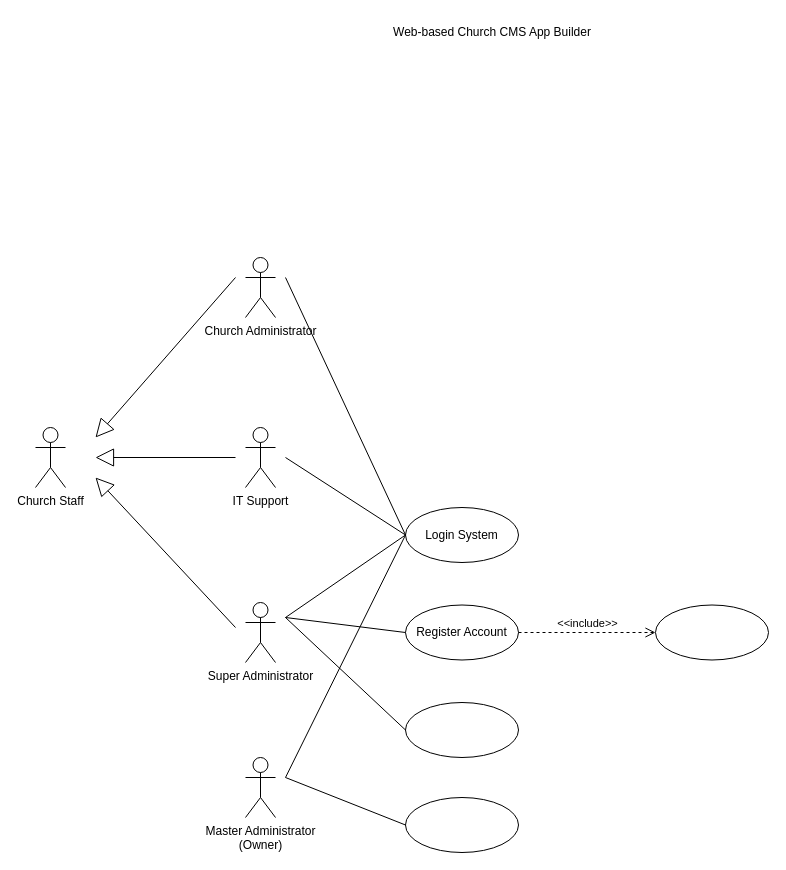
Some shapes in this 786 by 870 pixel diagram are drawn without their labels. The centre of each missing label's shape, as x and y in pixels:
"Approve Application" belongs at [461,824].
"Create Account" belongs at [461,730].
"Submit Application" belongs at [711,632].
